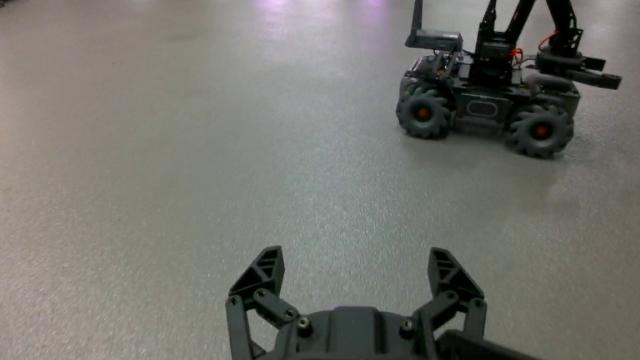robot: (394, 0, 623, 160)
